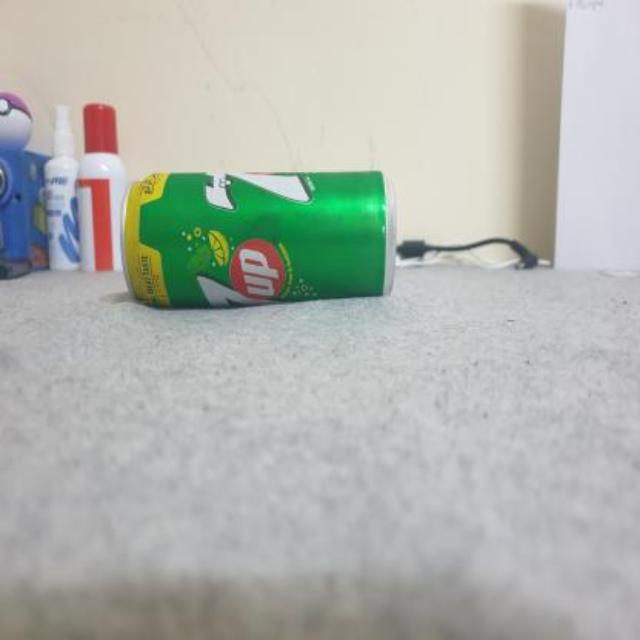metal: (122, 169, 392, 305)
